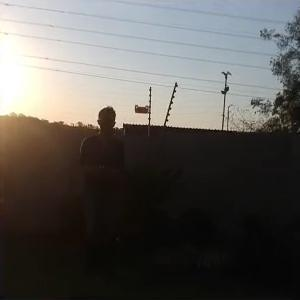follow: (75, 101, 130, 276)
